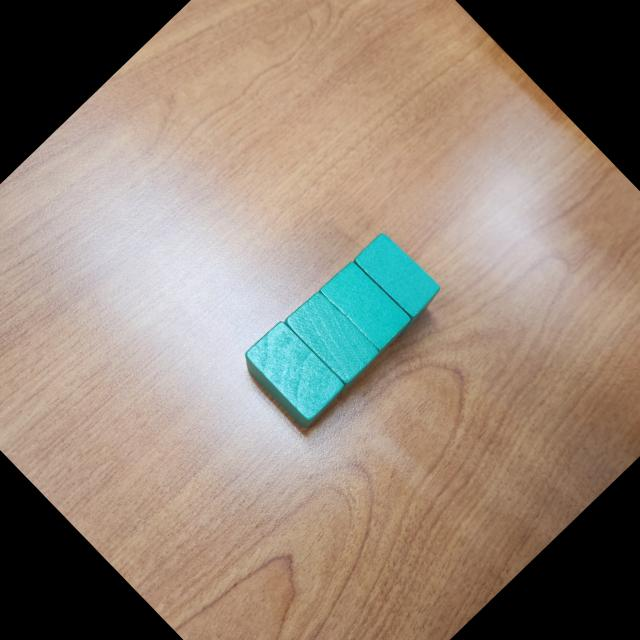green: (237, 317, 351, 432), (274, 286, 386, 398), (341, 229, 447, 336), (318, 256, 416, 356)
